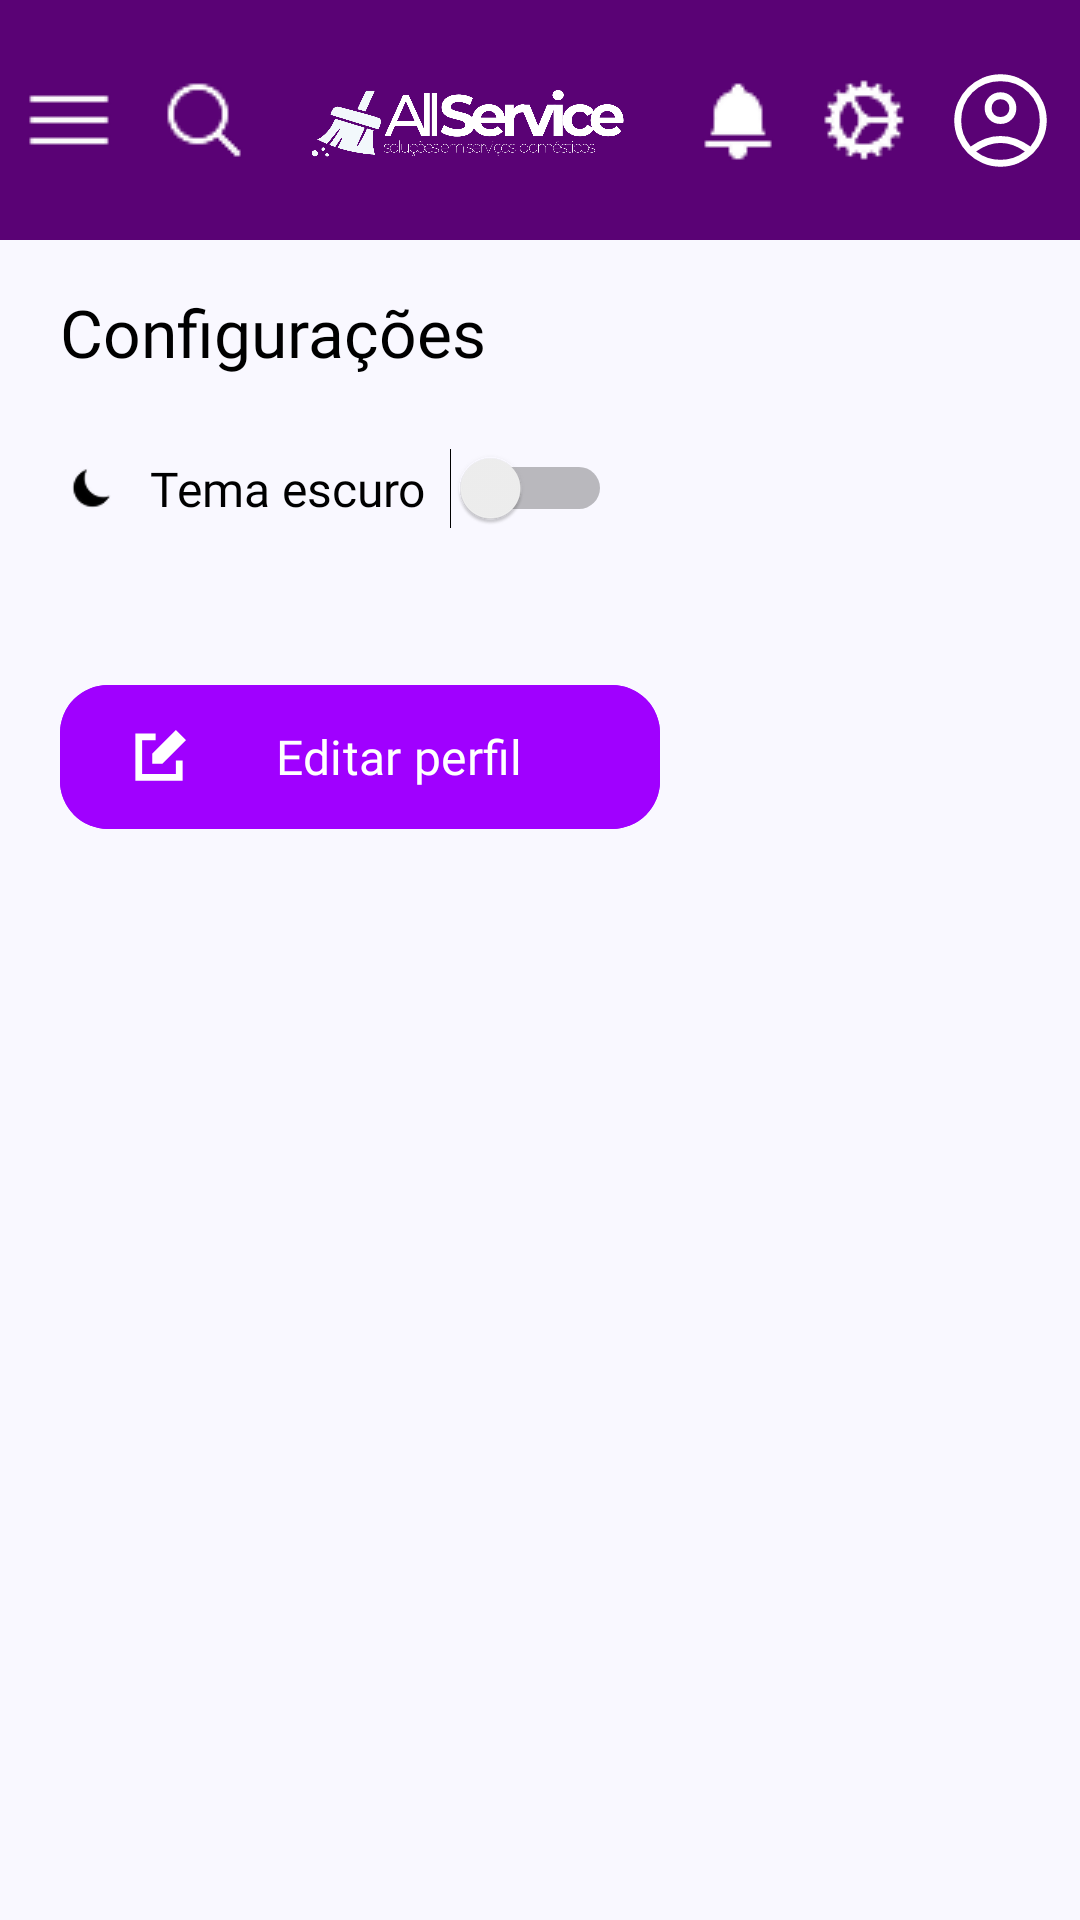

Where icons sit on this 1080×1920 app screen, as (x1, y1, x2, y2):
Buscar: (167, 83, 241, 157)
Configurações: (824, 80, 904, 160)
Menu: (29, 95, 109, 145)
moon: (73, 469, 110, 507)
Notificações: (704, 83, 772, 160)
Perfil: (954, 74, 1047, 167)
